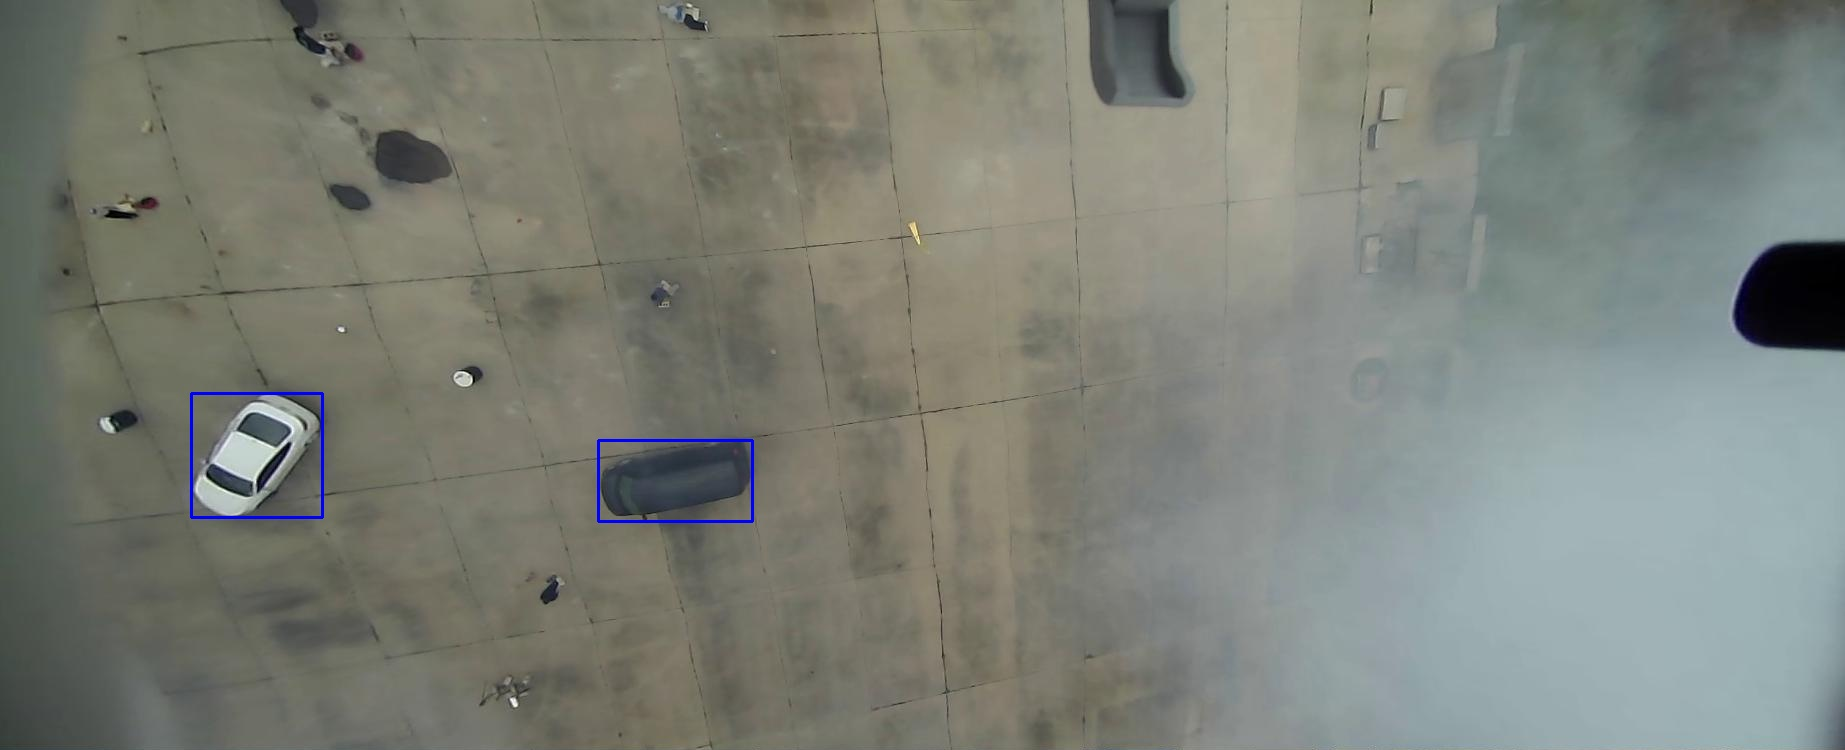vehicle: (393, 191, 517, 321), (440, 598, 521, 750)
